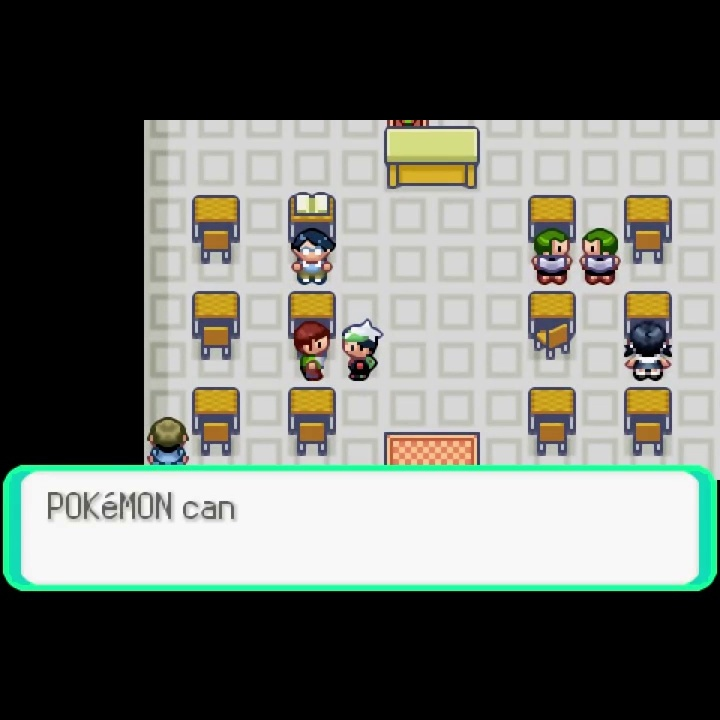agent: (339, 316, 386, 384)
exit: (382, 430, 482, 464)
npc: (619, 320, 674, 384), (287, 227, 337, 287), (528, 226, 574, 287), (579, 226, 622, 286), (292, 320, 331, 382), (146, 415, 191, 465)
